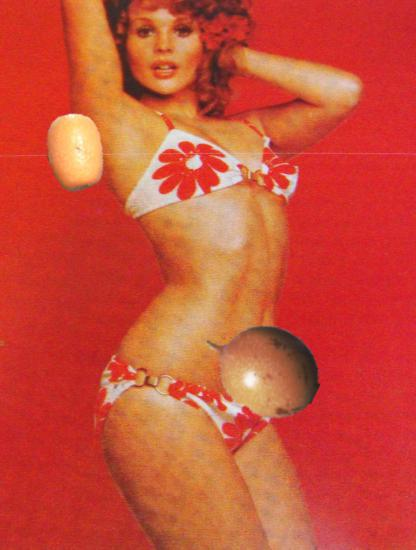Granadilla: (201, 307, 322, 428)
Kumquats: (35, 112, 115, 192)
